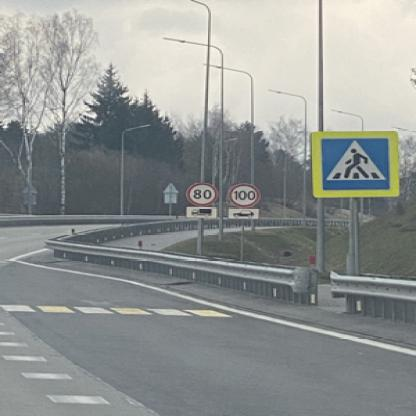crosswalk: (318, 135, 390, 189)
speedlimit: (226, 182, 258, 205), (184, 181, 215, 204)
